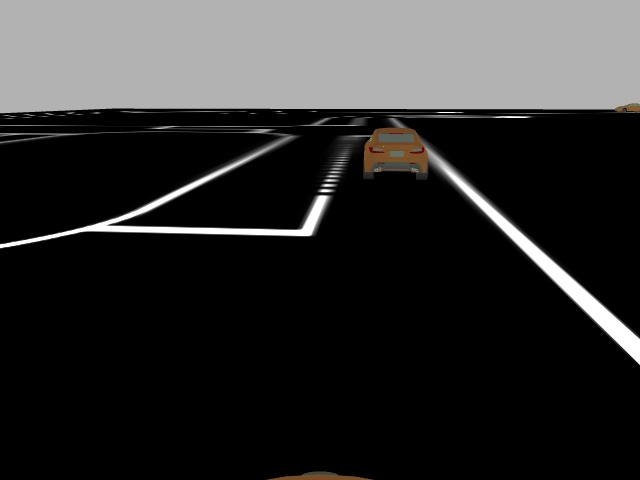obstacle_car: (363, 127, 430, 181)
